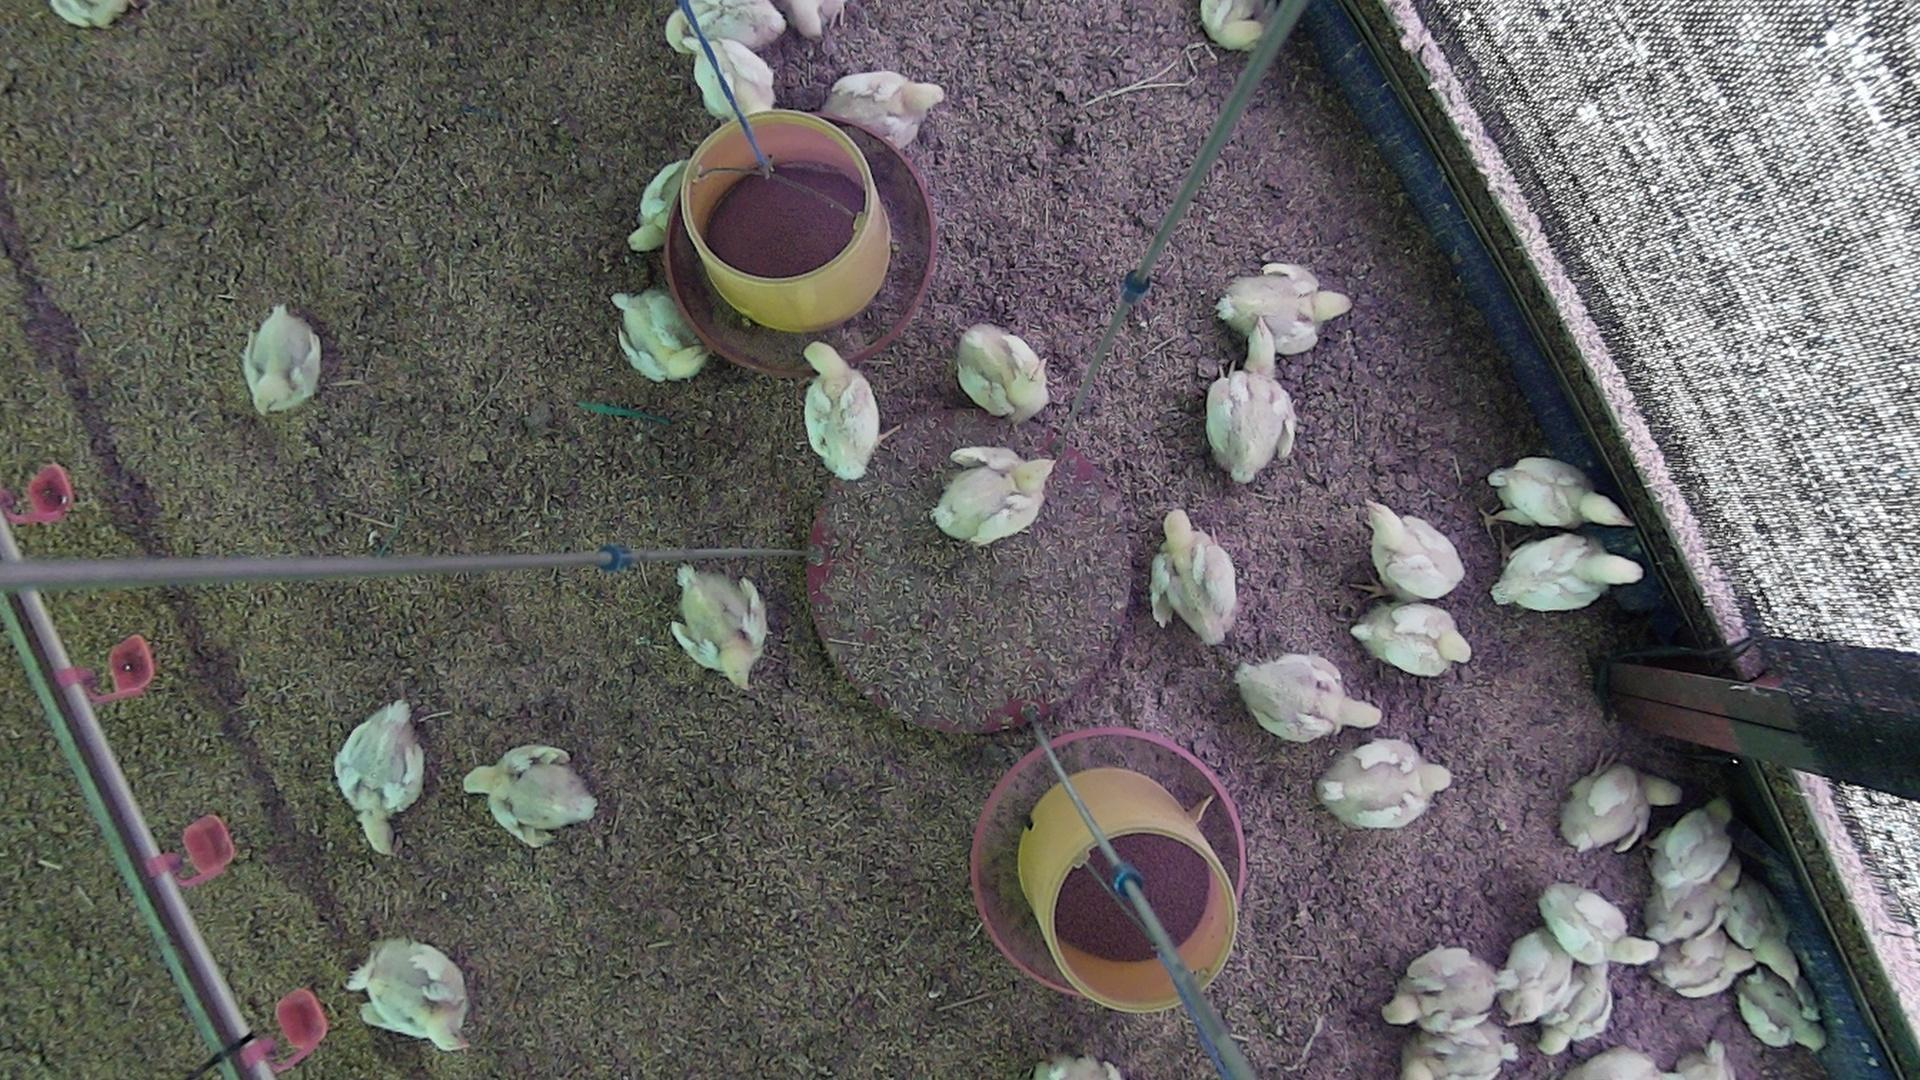ayam_broiler: (463, 744, 596, 847), (335, 699, 423, 852), (347, 938, 468, 1048), (1207, 332, 1296, 481), (1236, 651, 1382, 742), (1216, 261, 1352, 359), (1317, 737, 1452, 829), (931, 446, 1054, 545), (1153, 506, 1238, 645), (675, 563, 769, 688), (1491, 534, 1644, 609), (803, 340, 881, 480), (1561, 765, 1680, 852), (1382, 945, 1499, 1031), (1367, 498, 1465, 600), (1490, 456, 1627, 526), (1544, 885, 1660, 965), (825, 70, 944, 148), (956, 324, 1048, 419), (244, 303, 322, 414), (1353, 601, 1469, 675), (612, 289, 705, 380), (1646, 853, 1738, 940), (1651, 798, 1735, 889), (1406, 1015, 1520, 1079), (1727, 876, 1795, 981), (1495, 932, 1573, 1022), (1542, 964, 1614, 1056), (1741, 971, 1825, 1050), (695, 42, 778, 119), (1662, 928, 1754, 997), (667, 0, 786, 53), (629, 154, 688, 249)
